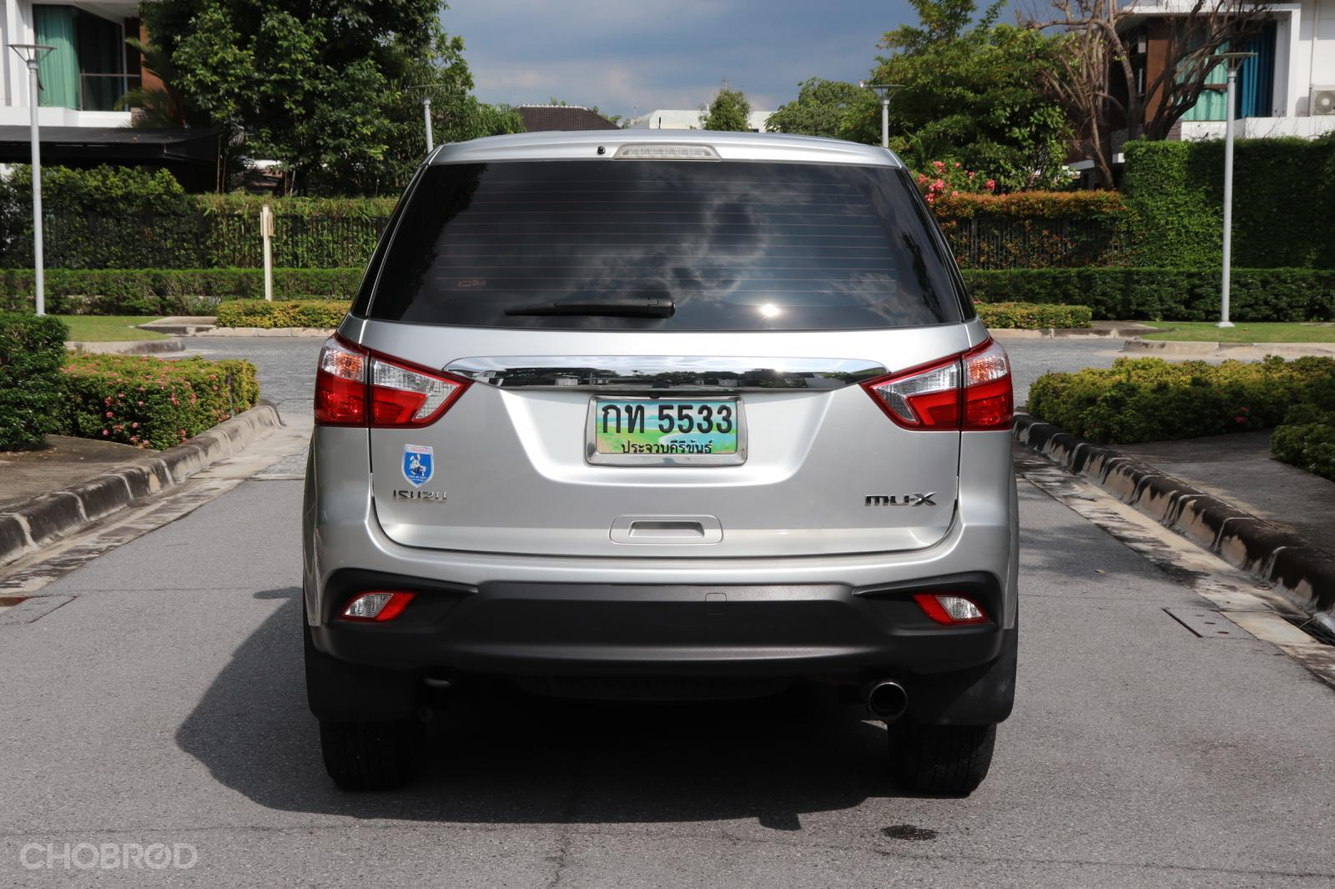license-plate: (585, 391, 749, 469)
